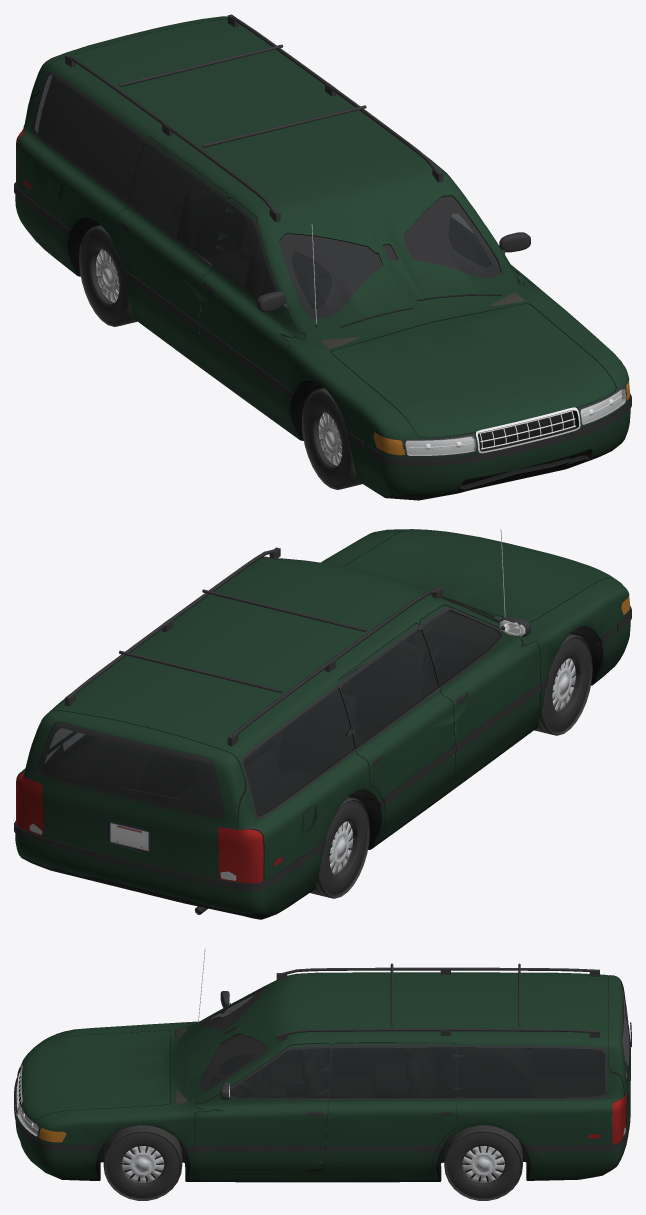
The model's file is car_wagon.glb.
3 views of the same model, one above another, from view 1: azimuth 30°, elevation 25°; view 2: azimuth 150°, elevation 25°; view 3: azimuth 270°, elevation 25° (orthographic). The views are drawn at different scales.
Visible parts, largest first — view 1: body, wheel_FR, wheel_RR; view 2: body, wheel_FR, wheel_RR; view 3: body, wheel_FL, wheel_RL.
Part boxes in pixels (bbox=[...]): body: bbox=[14, 14, 631, 500]; wheel_FR: bbox=[301, 388, 362, 489]; wheel_RR: bbox=[79, 225, 137, 326]; body: bbox=[14, 529, 631, 919]; wheel_FR: bbox=[534, 634, 592, 735]; wheel_RR: bbox=[310, 797, 369, 898]; body: bbox=[14, 948, 631, 1182]; wheel_FL: bbox=[103, 1125, 182, 1200]; wheel_RL: bbox=[444, 1125, 522, 1200].
Bounding box in the file's own units: 2.07 × 1.65 × 5.33.
12 materials, 1 textured.
